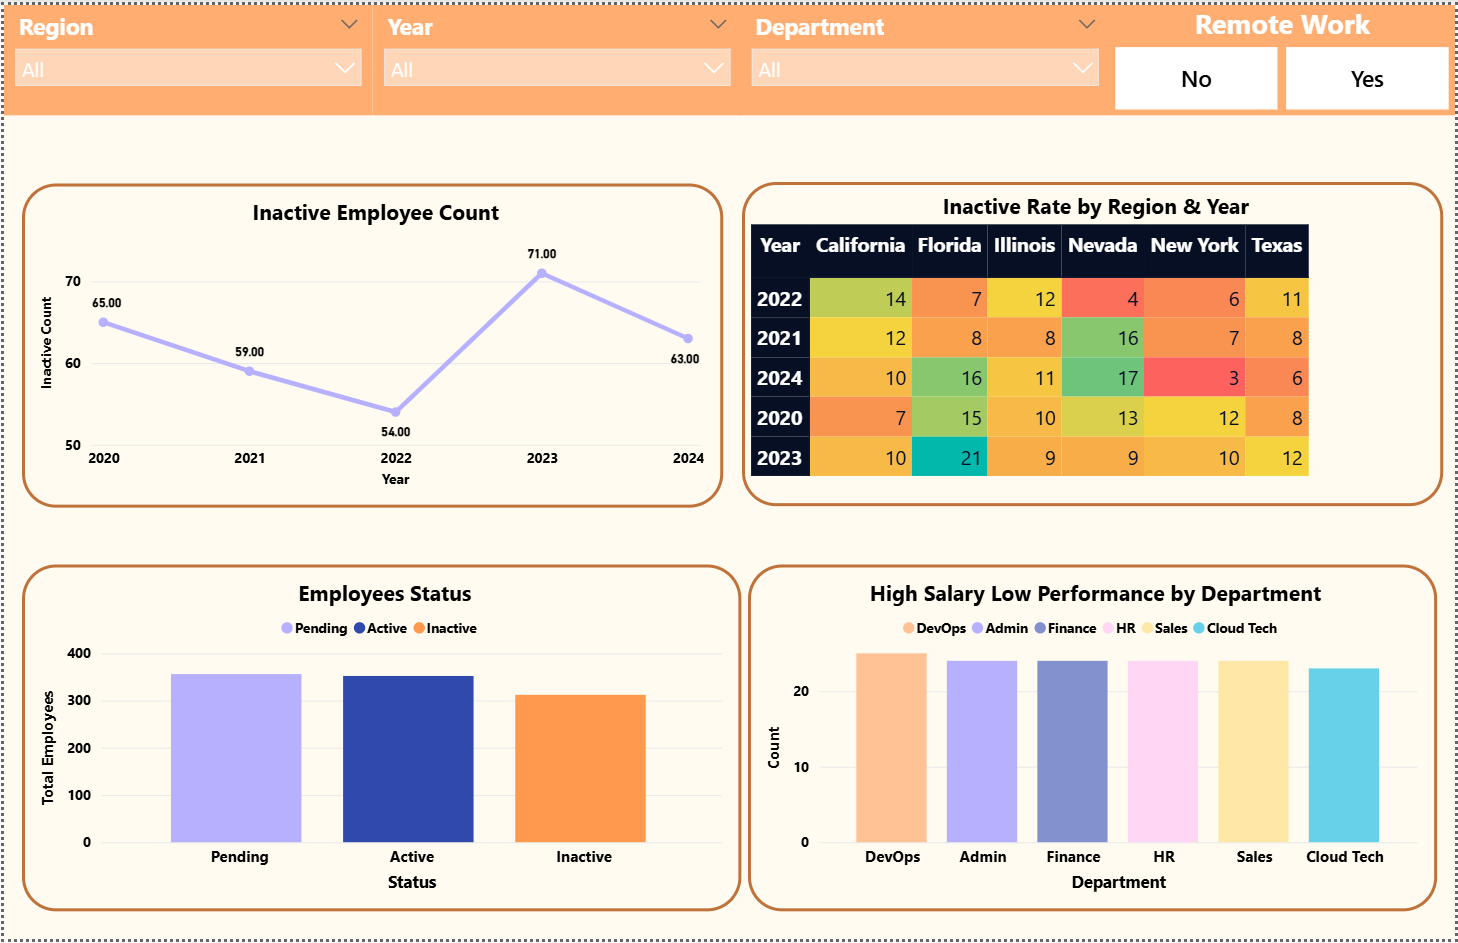

What the dashboard file says about the page in this screenshot:
{"tool":"powerbi","page":{"name":"Hiring and Retention + Compensation Effectiveness","canvas":[1280,824],"ordinal":3},"visuals":[{"type":"columnChart","title":"Employees Status","fields":{"Series":["employees.Status"],"Category":["employees.Status"],"Y":["CountNonNull(employees.Employee_ID)"]},"box":[15.8,494.2,634.7,306.3],"z":0},{"type":"slicer","fields":{"Values":["employees.Region"]},"box":[0,0,325,97.5],"z":1000},{"type":"slicer","fields":{"Values":["employees.Department"]},"box":[650,0,326.2,97.5],"z":2000},{"type":"slicer","fields":{"Values":["employees.Year"]},"box":[325,0,325,97.5],"z":3000},{"type":"advancedSlicerVisual","fields":{"Values":["employees.Remote_Work_Group"]},"box":[975,0,305,97.5],"z":4000},{"type":"lineChart","title":"Inactive Employee Count","fields":{"Category":["employees.Year"],"Y":["employees.Inactive Count"]},"box":[15.8,157.9,619,285.8],"z":5000},{"type":"pivotTable","title":"Inactive Rate by Region & Year","fields":{"Rows":["employees.Year"],"Columns":["employees.Region"],"Values":["employees.Inactive Count"]},"box":[650.5,156.3,619,285.8],"z":6000},{"type":"columnChart","title":"High Salary Low Performance by Department","fields":{"Series":["employees.Department"],"Y":["employees.High Salary Low Performance Count"],"Category":["employees.Department"]},"box":[656.9,494.2,607.9,306.3],"z":7000}]}

Visuals, with their boxes in screenshot pixels (x1, y1, x2, y2), scaled from the page's 1280x824 canvas onto the 1458x943 screenshot:
"Employees Status" columnChart: x1=18, y1=566, x2=741, y2=916
slicer - employees.Region: x1=0, y1=0, x2=370, y2=112
slicer - employees.Department: x1=740, y1=0, x2=1112, y2=112
slicer - employees.Year: x1=370, y1=0, x2=740, y2=112
advancedSlicerVisual - employees.Remote_Work_Group: x1=1111, y1=0, x2=1457, y2=112
"Inactive Employee Count" lineChart: x1=18, y1=181, x2=723, y2=508
"Inactive Rate by Region & Year" pivotTable: x1=741, y1=179, x2=1446, y2=506
"High Salary Low Performance by Department" columnChart: x1=748, y1=566, x2=1441, y2=916
